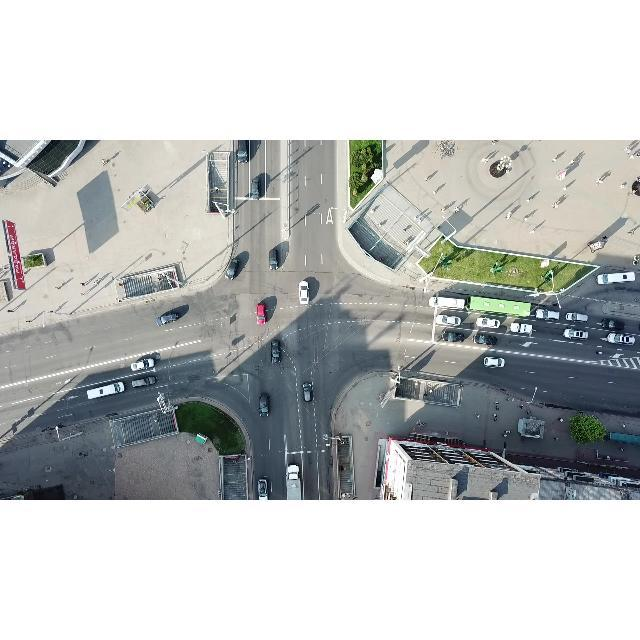vehicle: (285, 465, 303, 499), (87, 382, 125, 398), (429, 296, 465, 310), (597, 272, 635, 284), (224, 258, 240, 280), (607, 334, 635, 346), (131, 358, 155, 370), (436, 314, 460, 326), (563, 328, 589, 339), (476, 317, 499, 329), (155, 314, 177, 326), (131, 377, 155, 388), (256, 477, 268, 499), (602, 318, 624, 330), (302, 382, 314, 402), (259, 393, 269, 417), (472, 334, 496, 344), (535, 310, 559, 320), (271, 341, 281, 364), (250, 178, 260, 200), (299, 282, 309, 304), (512, 322, 532, 333), (442, 332, 464, 342), (484, 357, 504, 368), (566, 312, 588, 322), (269, 250, 279, 270), (256, 304, 266, 324)
